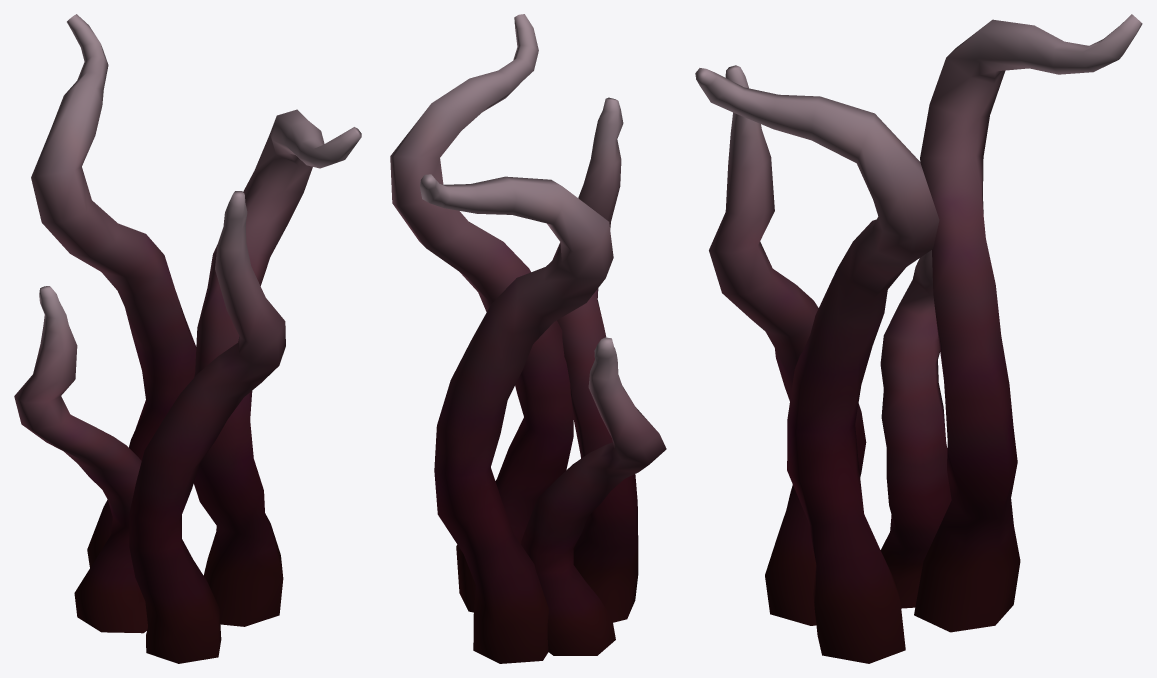
The model's file is M_Obstacle_CorruptedVinesS_01.fbx.
The picture shows the model from 3 angles, left to right: view 1: azimuth 30°, elevation 25°; view 2: azimuth 150°, elevation 25°; view 3: azimuth 270°, elevation 25°; orthographic projection. The views are drawn at different scales.
Parts seen in each view (by area): view 1: M_Obstacle_CorruptedVinesS_01; view 2: M_Obstacle_CorruptedVinesS_01; view 3: M_Obstacle_CorruptedVinesS_01.
Boxes of the visible parts, bbox=[...] form: M_Obstacle_CorruptedVinesS_01: bbox=[14, 14, 361, 663]; M_Obstacle_CorruptedVinesS_01: bbox=[390, 14, 666, 663]; M_Obstacle_CorruptedVinesS_01: bbox=[695, 14, 1142, 663].
Bounding box in the file's own units: 83.81 × 150 × 100.
1 material, 1 textured.
